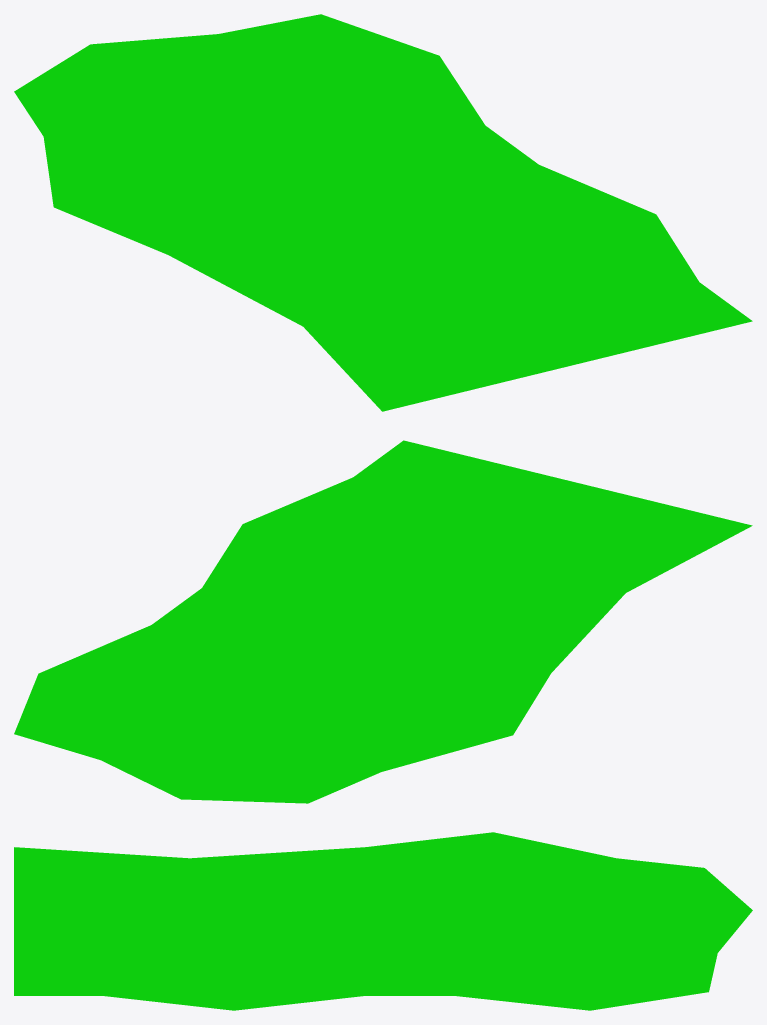
3 views of the same model, one above another, from view 1: azimuth 30°, elevation 25°; view 2: azimuth 150°, elevation 25°; view 3: azimuth 270°, elevation 25° (orthographic). The views are drawn at different scales.
Visible parts, largest first — view 1: BG001_1010_00_c01; view 2: BG001_1010_00_c01; view 3: BG001_1010_00_c01.
Boxes of the visible parts, left/top/right/bottom form: BG001_1010_00_c01: left=14, top=14, right=752, bottom=411; BG001_1010_00_c01: left=14, top=440, right=752, bottom=803; BG001_1010_00_c01: left=14, top=832, right=752, bottom=1010.
Bounding box in the file's own units: 480 × 0 × 840.
